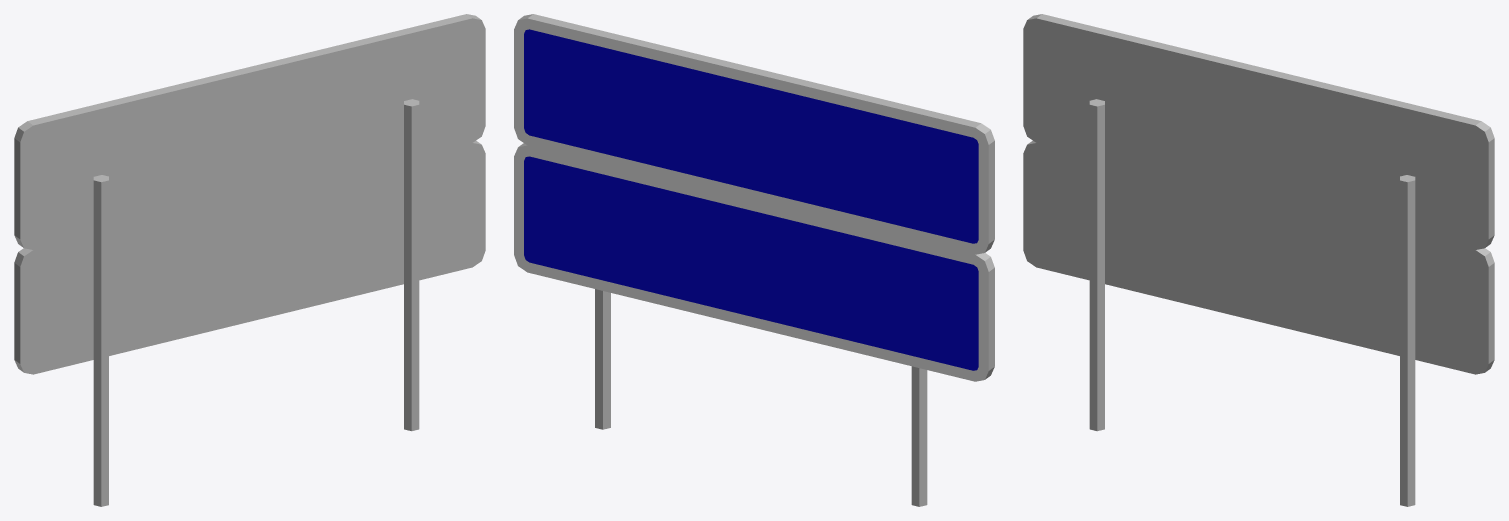
File: Sign_Double.fbx
The picture shows the model from 3 angles, left to right: view 1: azimuth 30°, elevation 25°; view 2: azimuth 150°, elevation 25°; view 3: azimuth 330°, elevation 25°; orthographic projection.
Parts seen in each view (by area): view 1: Cylinder.001; view 2: Cylinder.001; view 3: Cylinder.001.
Part boxes in pixels (x1,y1,x2,y2): Cylinder.001: [14, 14, 485, 506]; Cylinder.001: [514, 14, 994, 506]; Cylinder.001: [1023, 14, 1494, 506].
Bounding box in the file's own units: 300 × 241 × 14.99.
